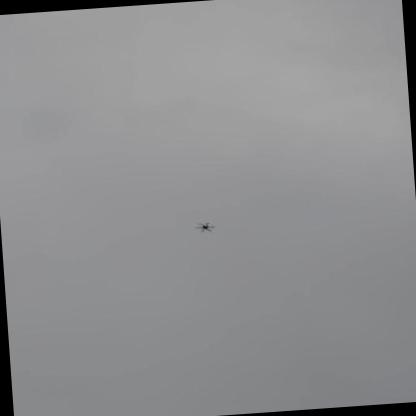drone: (193, 218, 216, 235)
